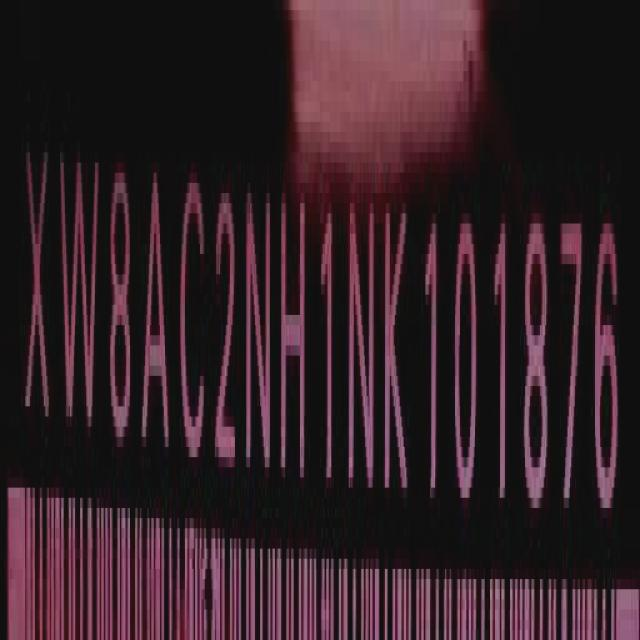0: (454, 200, 482, 516)
1: (316, 191, 338, 504), (424, 194, 441, 516), (491, 214, 509, 516)
2: (214, 174, 241, 486)
6: (596, 208, 622, 526)
7: (558, 203, 585, 527)
8: (524, 205, 550, 517), (110, 153, 134, 455)
A: (144, 154, 172, 464)
C: (180, 162, 208, 474)
H: (281, 182, 307, 497)
K: (383, 196, 413, 519)
N: (350, 190, 379, 507), (246, 176, 274, 491)
W: (57, 139, 102, 449)
X: (22, 130, 50, 440)
